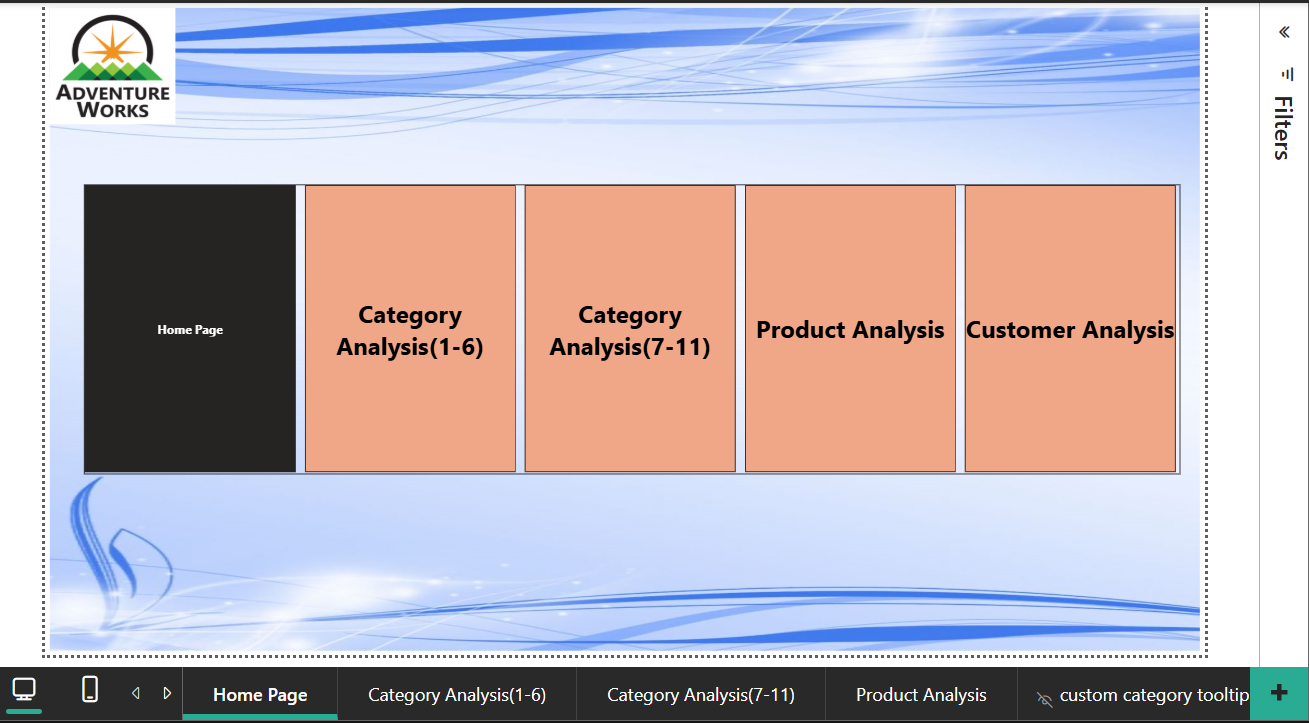

Layout of this report page (visuals, bound fields, positions):
{"tool":"powerbi","page":{"name":"Home Page","canvas":[1280,720],"ordinal":0},"visuals":[{"type":"image","box":[0,0,1280.5,720.6],"z":0},{"type":"pageNavigator","box":[43.1,200.4,1210.9,319.7],"z":1000},{"type":"image","box":[0,0,149.1,139.1],"z":3000}]}

Visuals, with their boxes on the page's 1280x720 design canvas (x1, y1, x2, y2). These are canvas units, not pixel positions in the 1309x723 screenshot, which may show the page scaled, cropped or inside an application window:
image: (0,0,1280,721)
pageNavigator: (43,200,1254,520)
image: (0,0,149,139)
